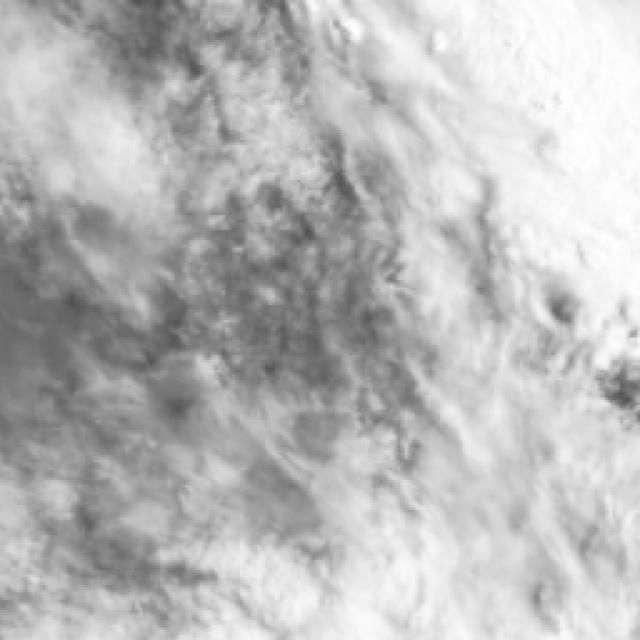CB: (457, 2, 640, 149)
